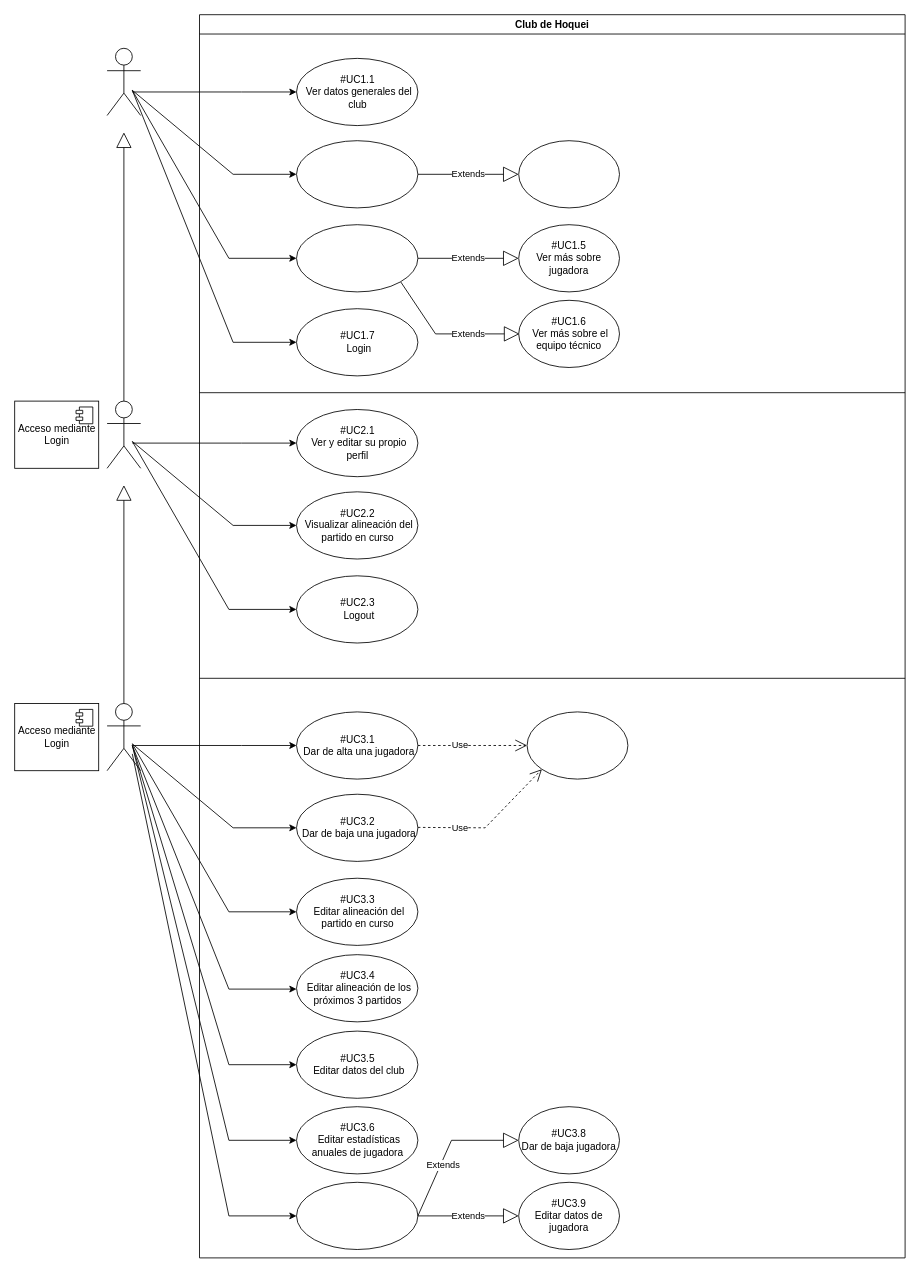
Image size: 921x1273. Some labels were removed from this diagram. Here are the shapes that lost their labels. From the top down, the centre of each, then its label:
(123,81): Visitante
(357,174): #UC1.2 Ver resultados y clasificación de la liga
(569,174): #UC1.3 Cambiar clasificación de la liga
(357,258): #UC1.4 Ver listado de jugadoras y equipo técnico
(123,434): Jugadora
(123,737): Equipo Técnico
(577,745): #UC3.2 Buscar jugadora
(357,1215): #UC3.7 Listar datos de todas las jugadoras
